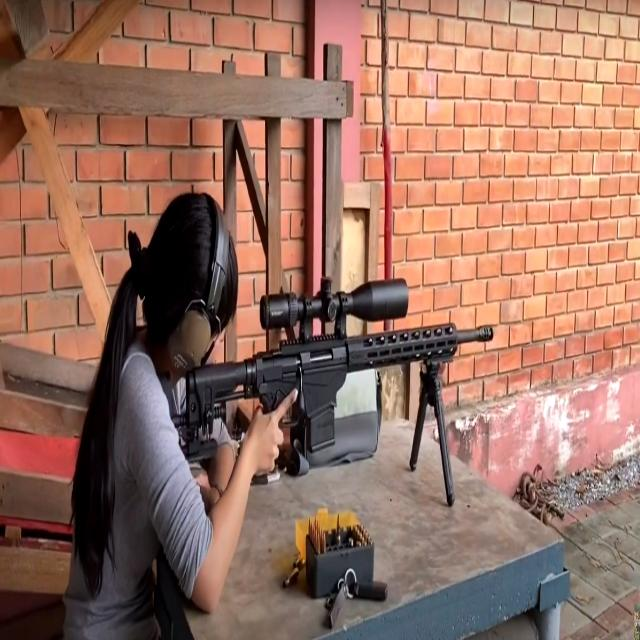rifle: (162, 274, 498, 512)
